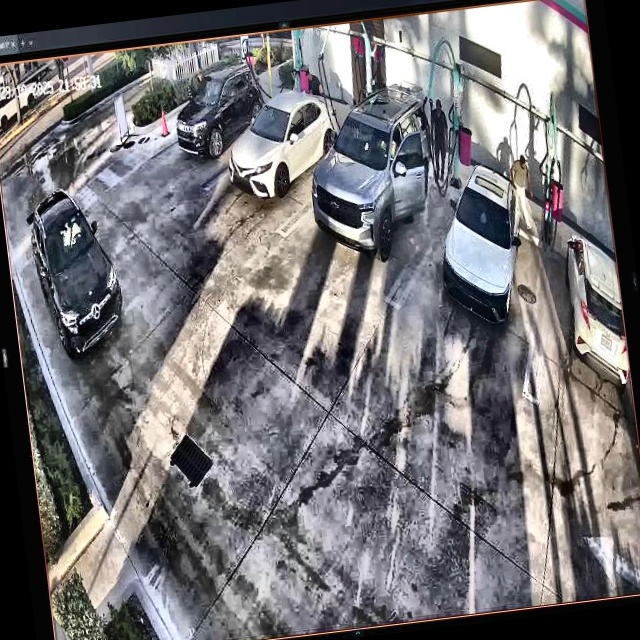Car: (301, 85, 444, 266), (430, 163, 534, 327), (223, 85, 344, 196), (174, 65, 264, 166)
